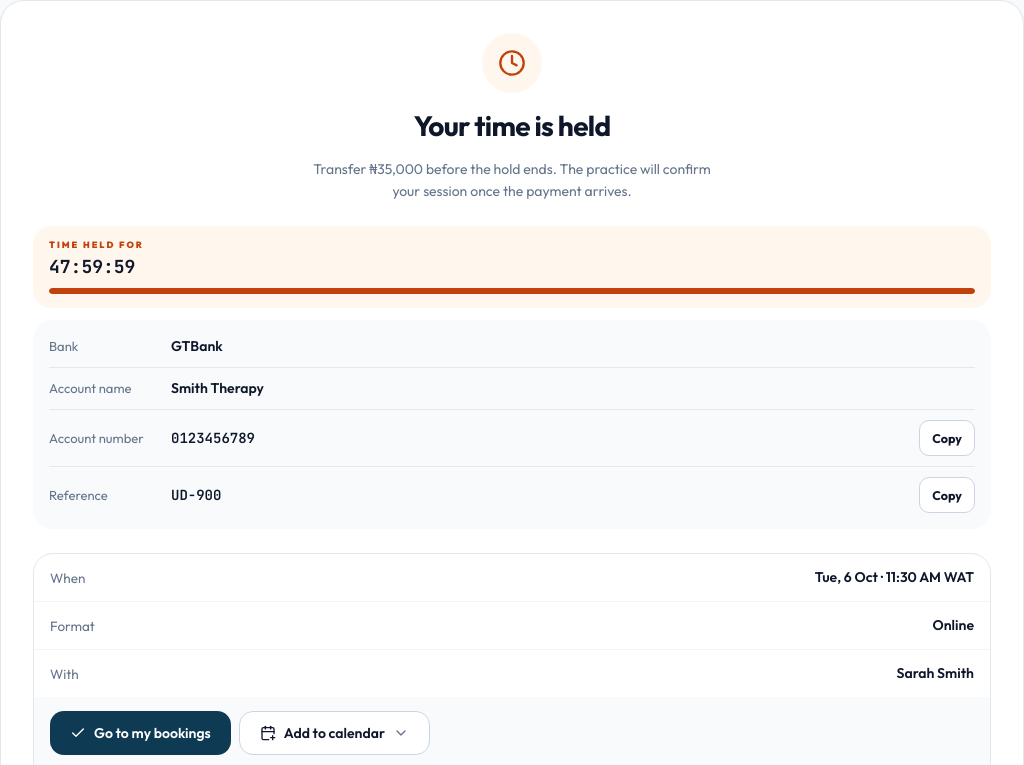
Test: ConfirmationStep › holds a transfer booking with a countdown and copyable details
Expected: the heading "Your time is held" is shown, [414,105,610,147]
Expected: the text "47:59:59" is shown, [49,255,135,278]
Click the button with aria-label "Copy reference" at (947, 495), box [919,477,975,513]
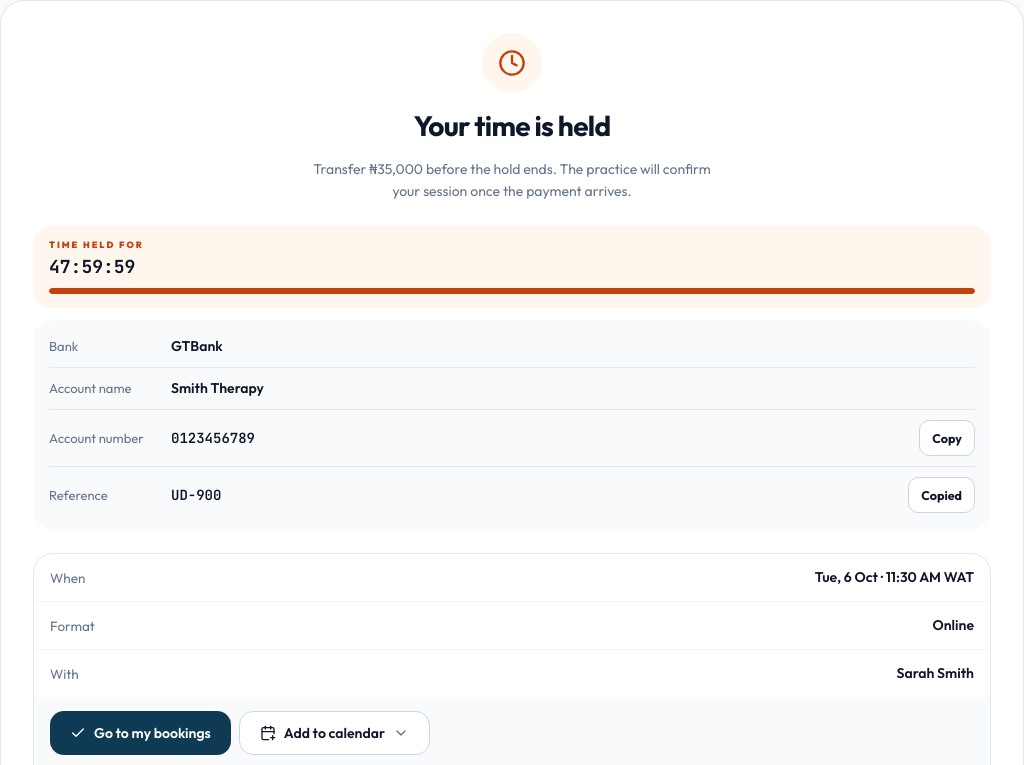
Now the button with aria-label "Copy reference" reads "Copied", box [908,477,975,513]
